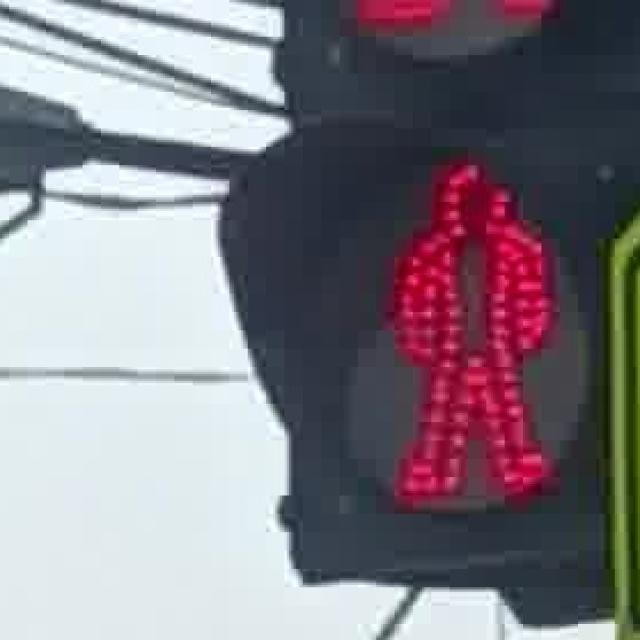red-crossing: (374, 144, 560, 512)
